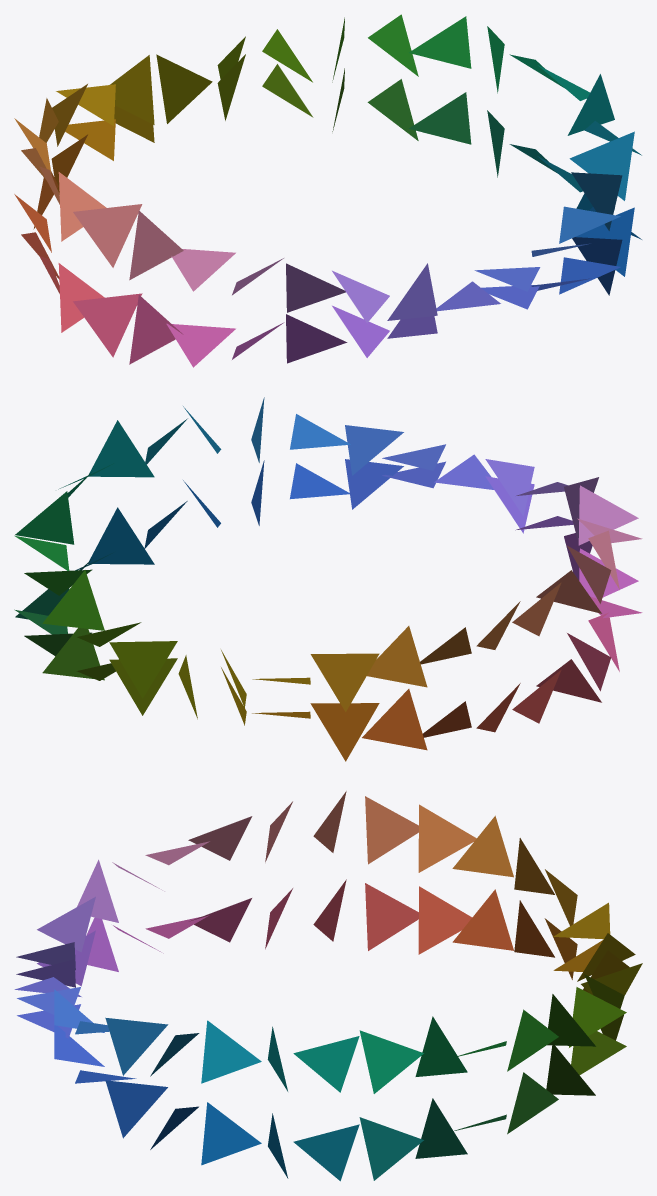
File: Model_Ring64.fbx
3 views of the same model, one above another, from view 1: azimuth 30°, elevation 25°; view 2: azimuth 150°, elevation 25°; view 3: azimuth 270°, elevation 25° (orthographic). The views are drawn at different scales.
Parts seen in each view (by area): view 1: Ring; view 2: Ring; view 3: Ring.
Part boxes in pixels (bbox=[...]): Ring: bbox=[14, 14, 641, 367]; Ring: bbox=[14, 397, 642, 761]; Ring: bbox=[14, 791, 642, 1181].
Bounding box in the file's own units: 2.18 × 0.6158 × 2.24.
